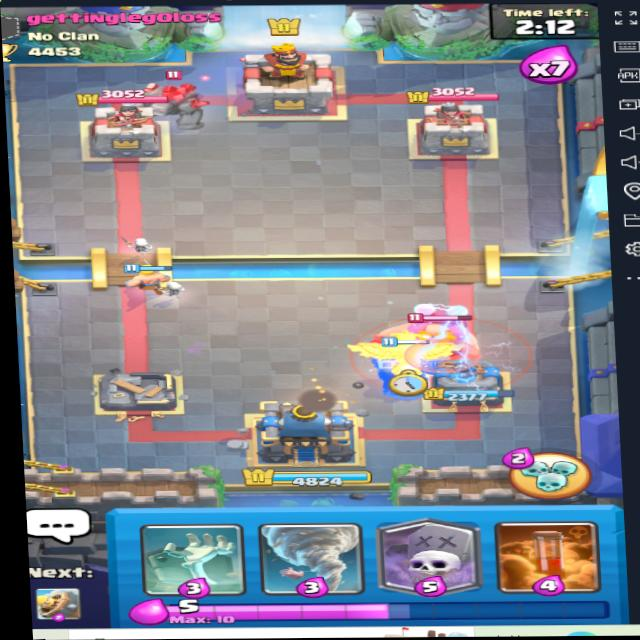electro-giant: (374, 300, 501, 371)
golem: (118, 66, 226, 130)
